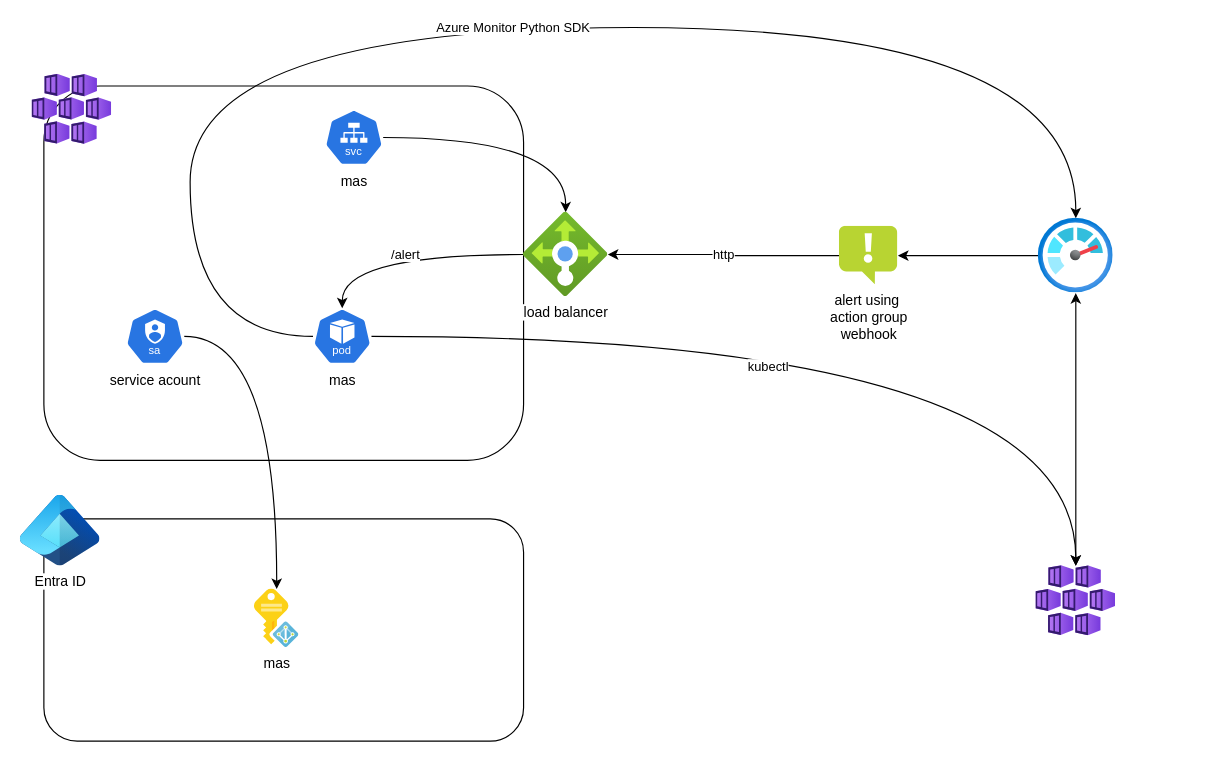
Image size: 1223x762. Some labels were removed from this diagram. Here are the shapes that lost their labels. From the top down, the centre of each, then its label:
the point at 71,109: aks-cluster (running MAS)
the point at 1075,255: Azure Monitor
the point at 1075,600: monitored cluster
